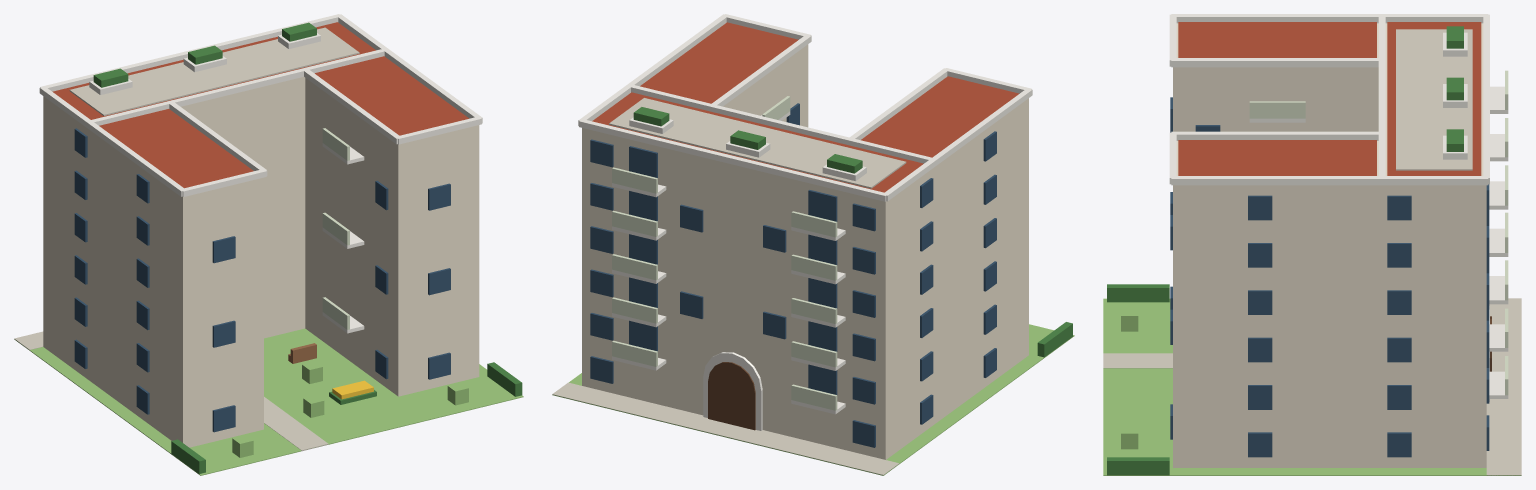
3 renders of one model, left to right at view 1: azimuth 30°, elevation 25°; view 2: azimuth 150°, elevation 25°; view 3: azimuth 270°, elevation 25°, orthographic. The views are drawn at different scales.
Parts seen in each view (by area): view 1: side_wing (×2), front_wing, lawn, roof (×3), parapet (×9), roof_terrace, window_glass (×5), courtyard_path, hedge (×2); view 2: front_wing, side_wing (×2), window_glass (×26), roof (×3), parapet (×9), balcony_wall (×10), roof_terrace, forecourt, lawn, entrance_arch, arch_surround, hedge; view 3: side_wing (×2), front_wing, roof (×3), parapet (×8), lawn, roof_terrace, window_glass (×12), forecourt, balcony (×6), hedge (×2), courtyard_path, balcony_wall.
Boxes of the visible parts, left/top/right/bottom form: side_wing (×2): left=90, top=78, right=479, bottom=447; front_wing: left=43, top=77, right=305, bottom=380; lawn: left=14, top=328, right=523, bottom=475; roof (×3): left=52, top=22, right=468, bottom=188; parapet (×9): left=39, top=14, right=482, bottom=196; roof_terrace: left=69, top=27, right=359, bottom=115; window_glass (×5): left=212, top=183, right=450, bottom=432; courtyard_path: left=264, top=397, right=328, bottom=450; hedge (×2): left=171, top=362, right=522, bottom=473; front_wing: left=582, top=128, right=933, bottom=459; side_wing (×2): left=723, top=44, right=1028, bottom=424; window_glass (×26): left=590, top=139, right=875, bottom=447; roof (×3): left=592, top=22, right=1019, bottom=192; parapet (×9): left=579, top=14, right=1032, bottom=201; balcony_wall (×10): left=612, top=167, right=837, bottom=410; roof_terrace: left=609, top=98, right=906, bottom=188; forecourt: left=552, top=382, right=899, bottom=475; lawn: left=552, top=324, right=1074, bottom=475; entrance_arch: left=708, top=362, right=755, bottom=430; arch_surround: left=703, top=352, right=762, bottom=430; hedge: left=1037, top=322, right=1072, bottom=357; side_wing (×2): left=1173, top=23, right=1382, bottom=467; front_wing: left=1382, top=23, right=1486, bottom=467; roof (×3): left=1178, top=22, right=1481, bottom=175; parapet (×8): left=1171, top=14, right=1489, bottom=185; lawn: left=1103, top=298, right=1521, bottom=475; roof_terrace: left=1396, top=29, right=1472, bottom=170; window_glass (×12): left=1248, top=195, right=1411, bottom=457; forecourt: left=1486, top=298, right=1521, bottom=475; balcony (×6): left=1489, top=134, right=1508, bottom=398; hedge (×2): left=1107, top=284, right=1169, bottom=475; courtyard_path: left=1103, top=353, right=1172, bottom=368; balcony_wall: left=1249, top=101, right=1305, bottom=118.
Bounding box in the file's own units: 24 × 19.17 × 24.
